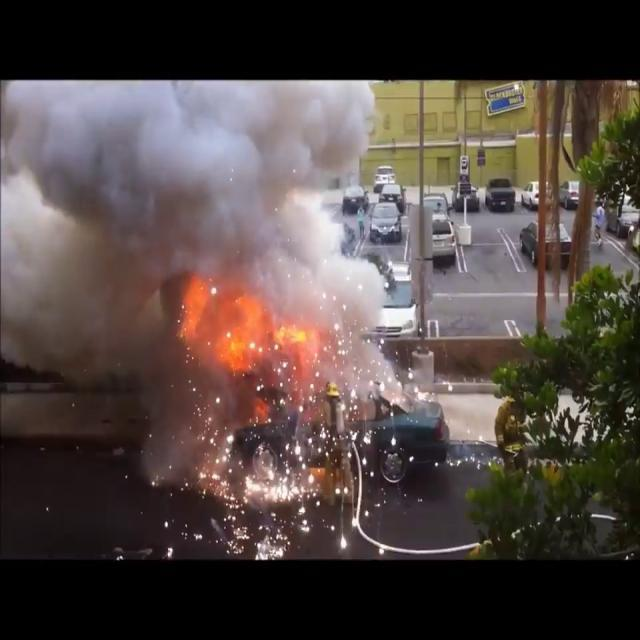Fire: (226, 296, 314, 362)
Smoke: (1, 81, 397, 422), (1, 80, 394, 316)
